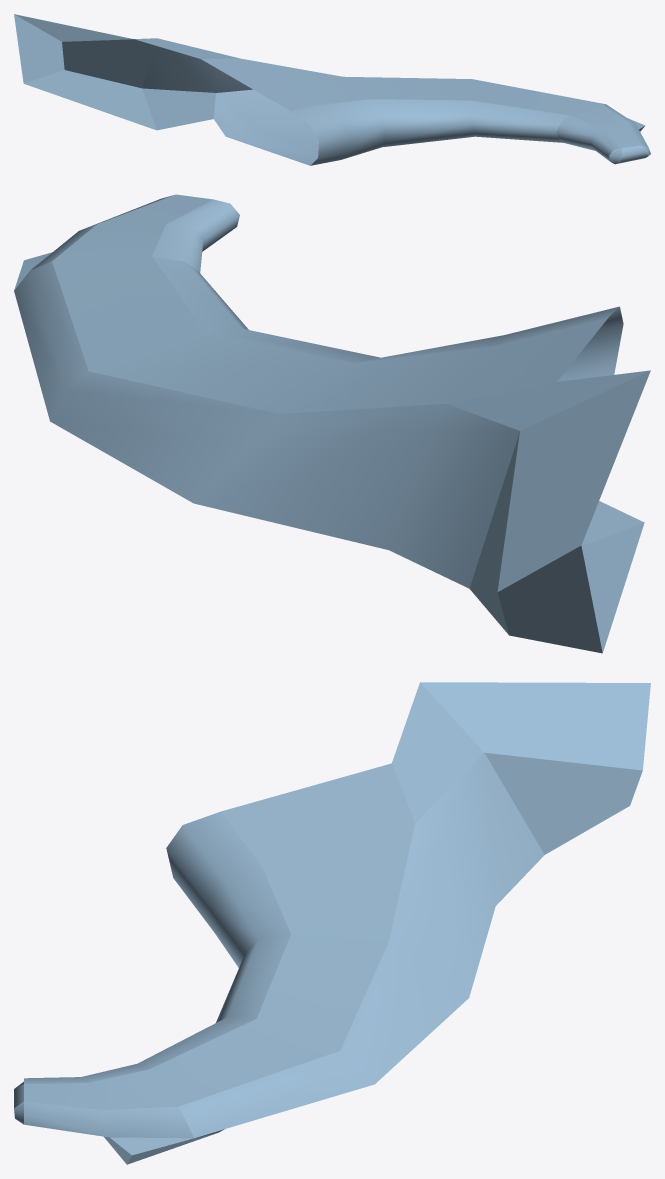
The model's file is horn wing L.FBX.
3 views of the same model, one above another, from view 1: azimuth 30°, elevation 25°; view 2: azimuth 150°, elevation 25°; view 3: azimuth 270°, elevation 25° (orthographic). The views are drawn at different scales.
Visible parts, largest first — view 1: Object84; view 2: Object84; view 3: Object84.
Boxes of the visible parts, left/top/right/bottom form: Object84: left=14, top=14, right=650, bottom=165; Object84: left=14, top=194, right=650, bottom=653; Object84: left=14, top=682, right=650, bottom=1164.
Size of the model in its own units: 0.1449 by 0.1176 by 0.0403.
